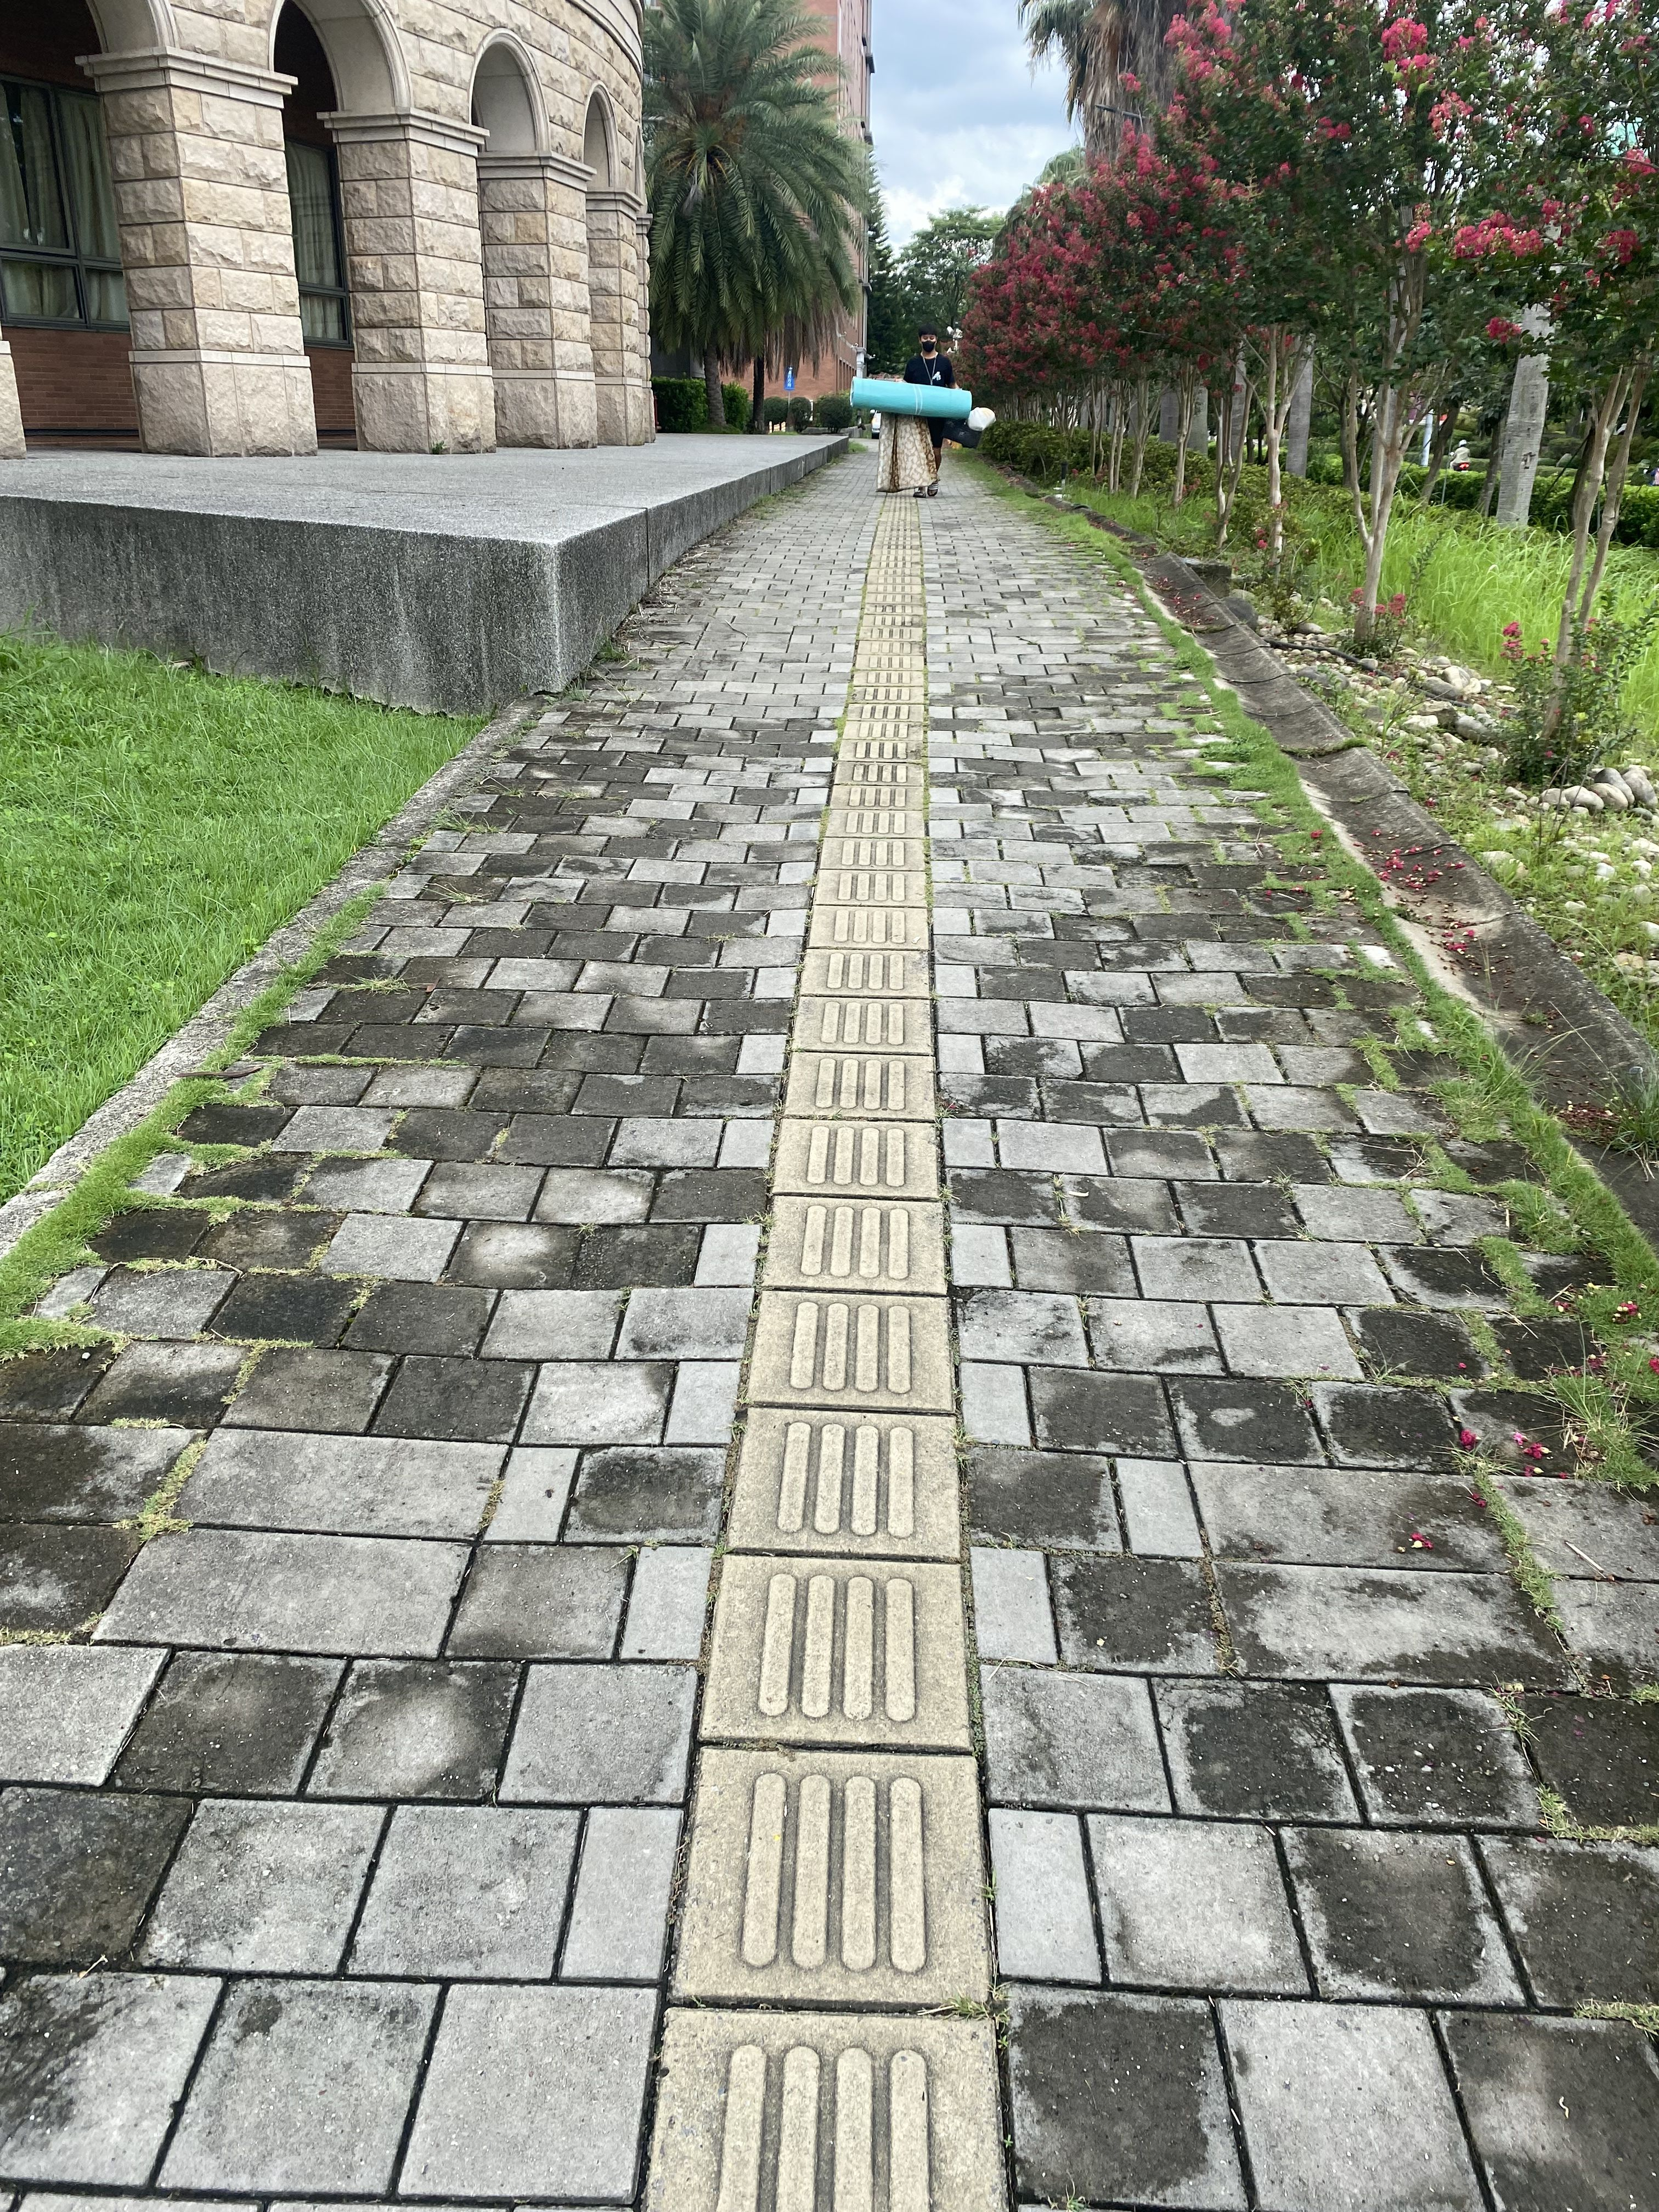sidewalk: (0, 434, 1659, 2212)
